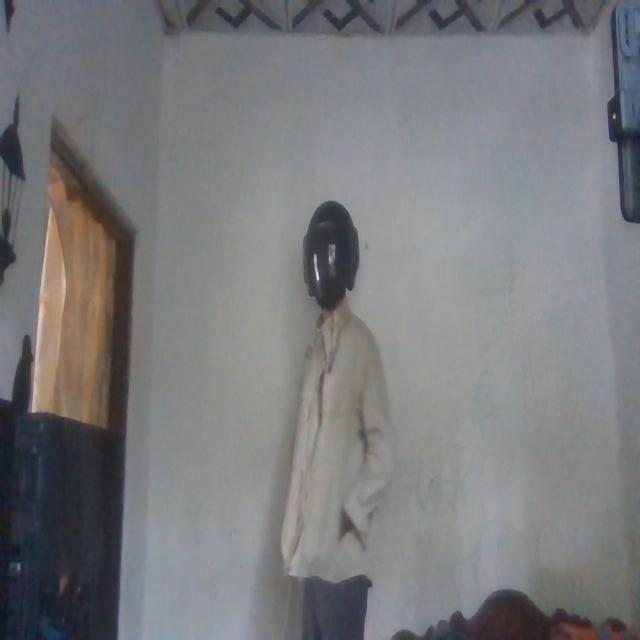Helmet_Wearer: (300, 198, 364, 308)
Jacket_Wearer: (288, 303, 388, 602)
Person: (275, 194, 393, 640)
